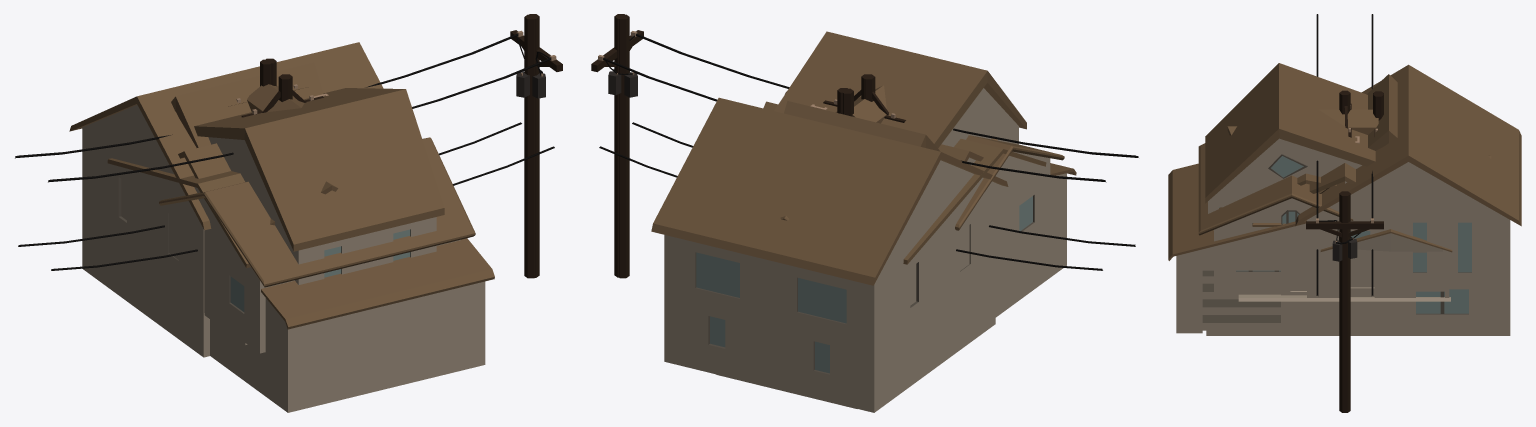
The model's file is LP_FlatTown_1.glb.
3 views of the same model, side by side, from view 1: azimuth 30°, elevation 25°; view 2: azimuth 150°, elevation 25°; view 3: azimuth 270°, elevation 25° (orthographic). The views are drawn at different scales.
Visible parts, largest first — view 1: House_1, House7, House4, PowerPole3, House6, PowerPole2, House5, Wires, House2; view 2: House_1, House7, House4, PowerPole3, PowerPole2, House5, House6, Wires, House2; view 3: House_1, House7, House4, PowerPole2, House5, House6, PowerPole3, House2, PowerPole4.
Boxes of the visible parts, bbox=[...] form: House_1: bbox=[69, 42, 494, 412]; House7: bbox=[194, 84, 444, 284]; House4: bbox=[159, 137, 475, 353]; PowerPole3: bbox=[15, 14, 560, 278]; House6: bbox=[171, 62, 338, 225]; PowerPole2: bbox=[17, 14, 562, 277]; House5: bbox=[107, 158, 250, 344]; Wires: bbox=[18, 122, 554, 270]; House2: bbox=[178, 143, 230, 178]; House_1: bbox=[651, 97, 1076, 412]; House7: bbox=[716, 31, 1026, 408]; House4: bbox=[780, 91, 1064, 278]; PowerPole3: bbox=[593, 14, 1138, 278]; PowerPole2: bbox=[591, 14, 1136, 277]; House5: bbox=[903, 139, 1046, 305]; House6: bbox=[784, 101, 997, 151]; Wires: bbox=[599, 122, 1135, 270]; House2: bbox=[763, 101, 983, 165]; House_1: bbox=[1168, 64, 1521, 335]; House7: bbox=[1205, 63, 1378, 335]; House4: bbox=[1198, 143, 1491, 295]; PowerPole2: bbox=[1306, 14, 1383, 412]; House5: bbox=[1238, 173, 1452, 301]; House6: bbox=[1227, 74, 1397, 150]; PowerPole3: bbox=[1306, 14, 1383, 261]; House2: bbox=[1309, 163, 1355, 193]; PowerPole4: bbox=[1339, 91, 1351, 137].
Size of the model in its own units: 8.24e+07 by 3.99e+07 by 5.89e+07.
